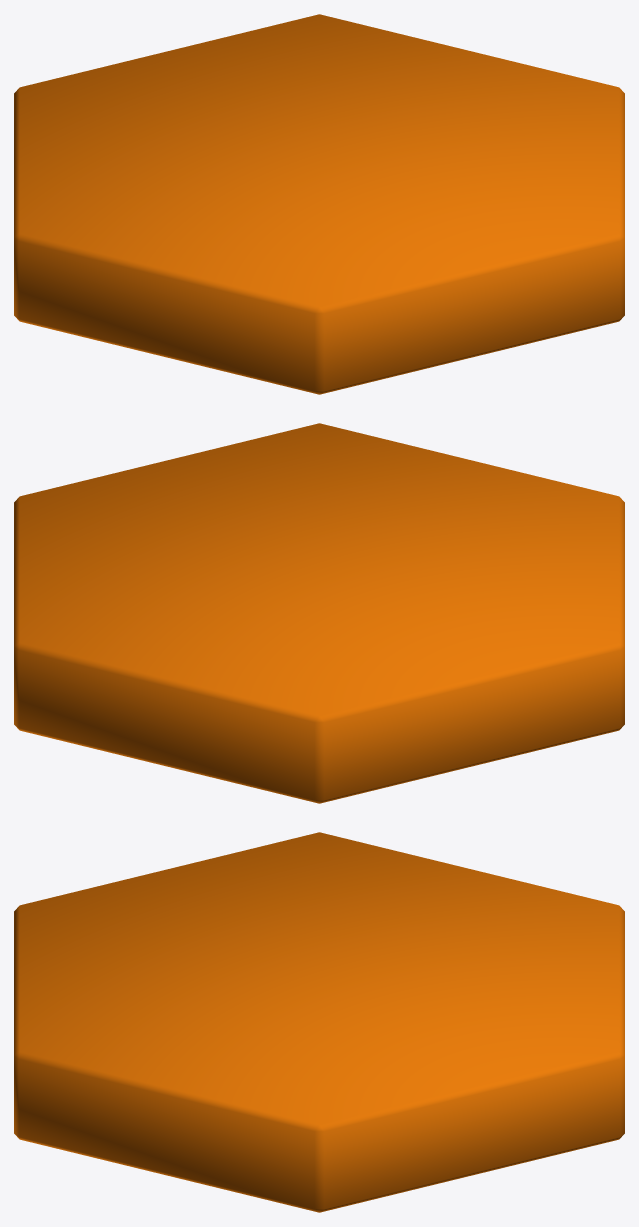
Rendered from bee.fbx.
The picture shows the model from 3 angles, top to bottom: view 1: azimuth 30°, elevation 25°; view 2: azimuth 150°, elevation 25°; view 3: azimuth 270°, elevation 25°; orthographic projection.
Parts seen in each view (by area): view 1: HexagonHoney_1.001; view 2: HexagonHoney_1.001; view 3: HexagonHoney_1.001.
Part boxes in pixels (left/top/right/bottom): HexagonHoney_1.001: left=14, top=14, right=624, bottom=394; HexagonHoney_1.001: left=14, top=423, right=624, bottom=803; HexagonHoney_1.001: left=14, top=832, right=624, bottom=1212.
Size of the model in its own units: 1690 by 234 by 1475.
